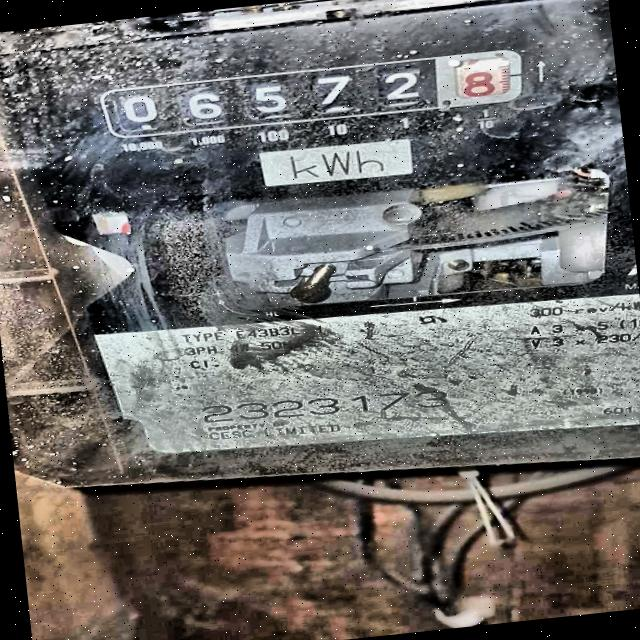Analog: (0, 0, 640, 521)
Reading: (109, 51, 524, 138)
Serial No.: (194, 387, 452, 425)
